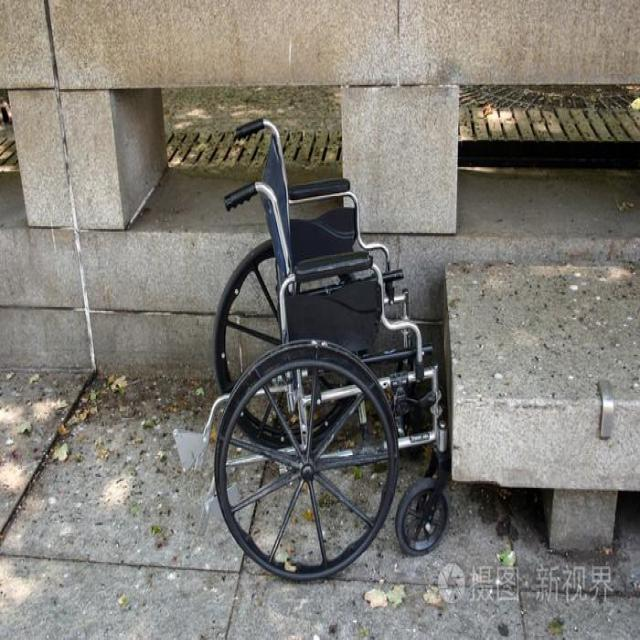wheelchairs: (193, 107, 460, 569)
